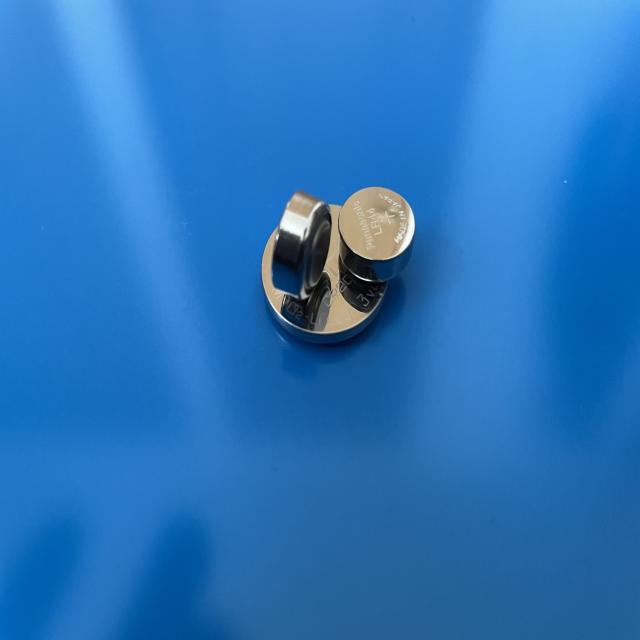COIN: (259, 202, 392, 346), (338, 184, 418, 284), (271, 190, 334, 304)
